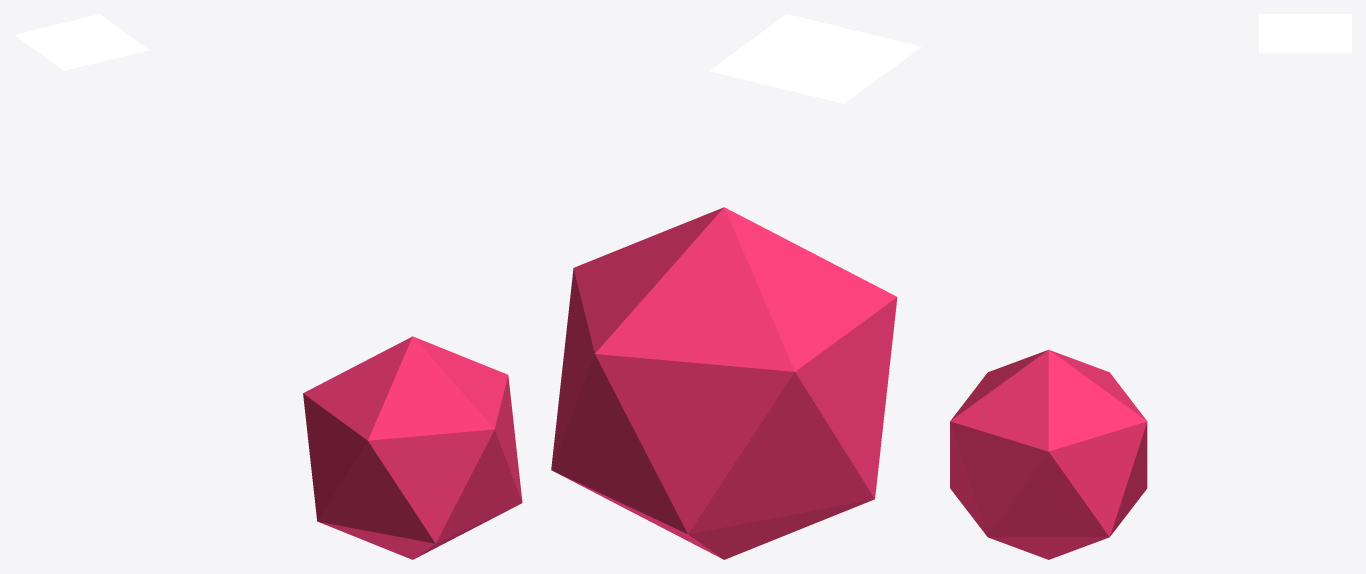
The picture shows the model from 3 angles, left to right: view 1: azimuth 30°, elevation 25°; view 2: azimuth 150°, elevation 25°; view 3: azimuth 270°, elevation 25°; orthographic projection. The views are drawn at different scales.
Parts seen in each view (by area): view 1: Icosphere, Plane.001; view 2: Icosphere, Plane.001; view 3: Icosphere, Plane.001.
Part boxes in pixels (left/top/right/bottom): Icosphere: left=303, top=336, right=522, bottom=559; Plane.001: left=15, top=14, right=148, bottom=70; Icosphere: left=551, top=207, right=897, bottom=559; Plane.001: left=709, top=14, right=921, bottom=103; Icosphere: left=950, top=349, right=1147, bottom=559; Plane.001: left=1259, top=14, right=1351, bottom=53.
Size of what is drawn, in the model's own units: 0.7783 by 1.04 by 0.8659.
